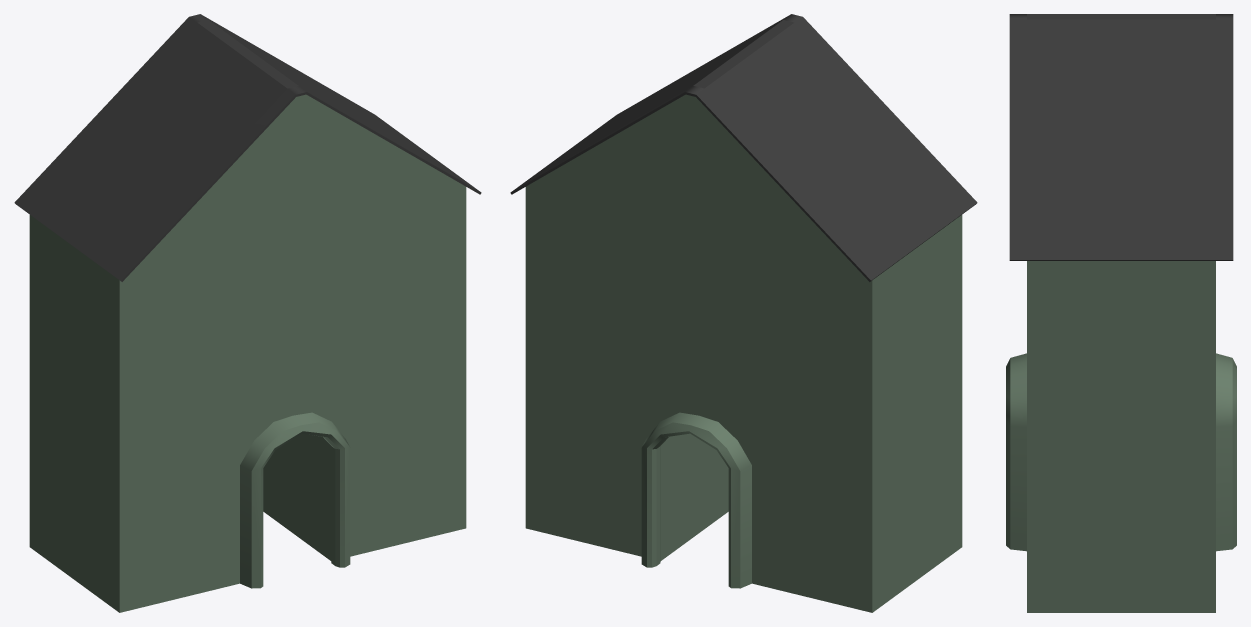
The model's file is Building_07.fbx.
The picture shows the model from 3 angles, left to right: view 1: azimuth 30°, elevation 25°; view 2: azimuth 150°, elevation 25°; view 3: azimuth 270°, elevation 25°; orthographic projection. The views are drawn at different scales.
Visible parts, largest first — view 1: Building_Shell, Roof; view 2: Building_Shell, Roof; view 3: Building_Shell, Roof.
Part boxes in pixels (x1,y1,x2,y2): Building_Shell: [29, 94, 466, 612]; Roof: [14, 14, 481, 281]; Building_Shell: [525, 94, 962, 612]; Roof: [510, 14, 977, 281]; Building_Shell: [1006, 261, 1236, 612]; Roof: [1009, 14, 1233, 260].
Size of the model in its own units: 8.28 by 10.6 by 4.37.
